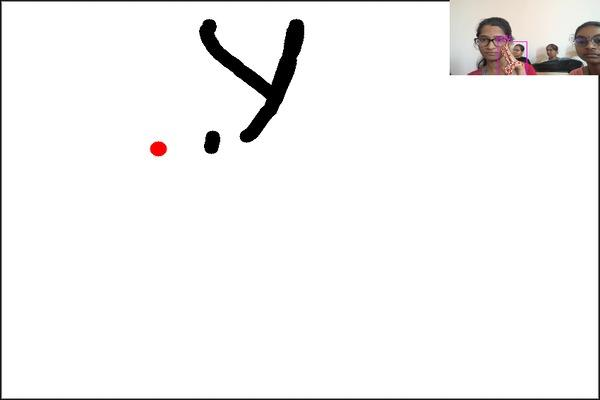Y: (195, 11, 343, 157)
